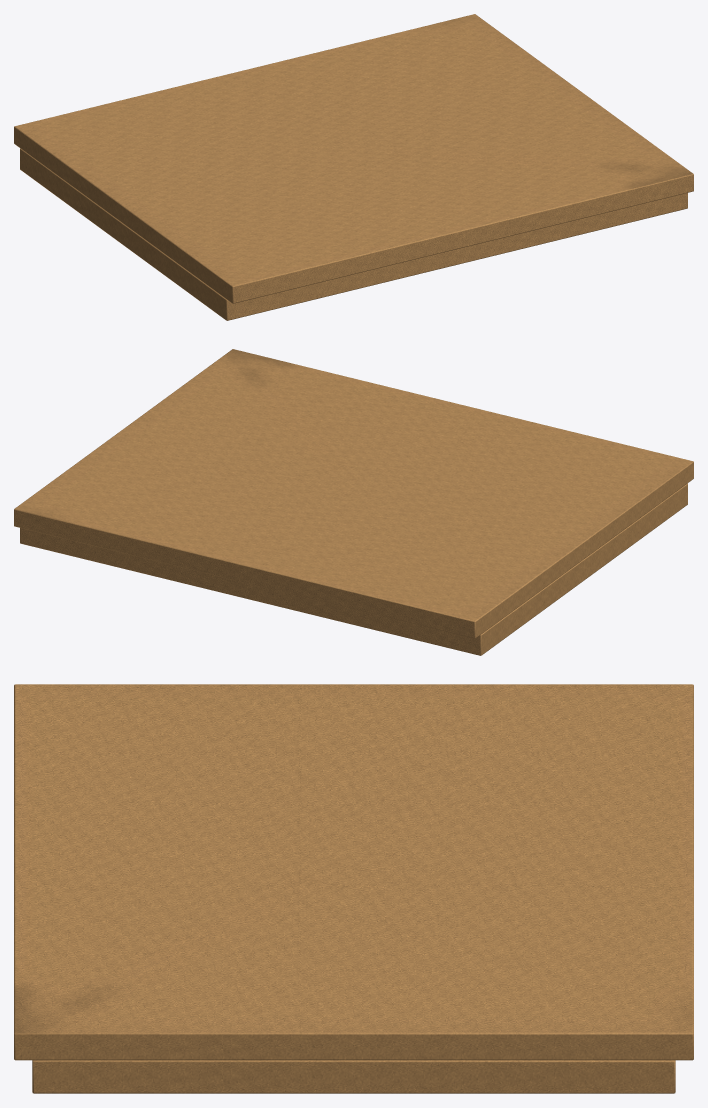
The model's file is 8-top-box-lid-right.fbx.
3 renders of one model, top to bottom at view 1: azimuth 30°, elevation 25°; view 2: azimuth 150°, elevation 25°; view 3: azimuth 270°, elevation 25°, orthographic. The views are drawn at different scales.
Parts seen in each view (by area): view 1: top-box-lid-right; view 2: top-box-lid-right; view 3: top-box-lid-right.
Boxes of the visible parts, box(x1,y1,x2,y2) form: top-box-lid-right: box(14, 14, 693, 320); top-box-lid-right: box(14, 349, 693, 655); top-box-lid-right: box(14, 684, 693, 1093).
Size of the model in its own units: 9000 by 730 by 7400.
Materials: 1 (1 with a texture image).
